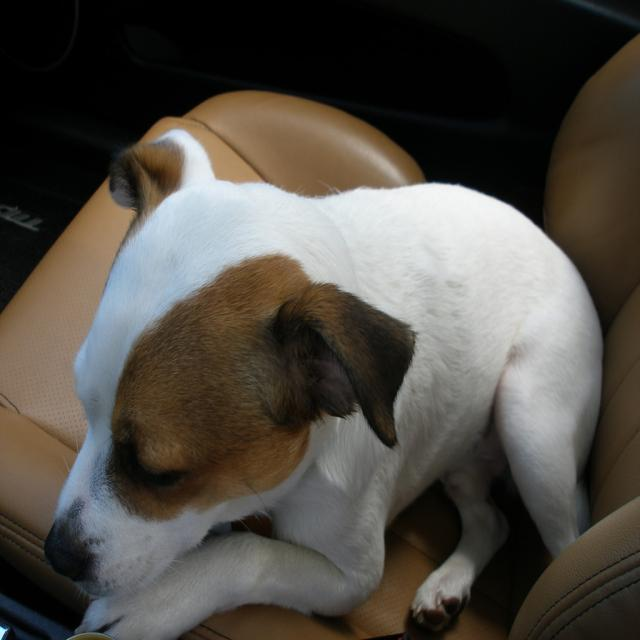Dog: (44, 125, 602, 638)
